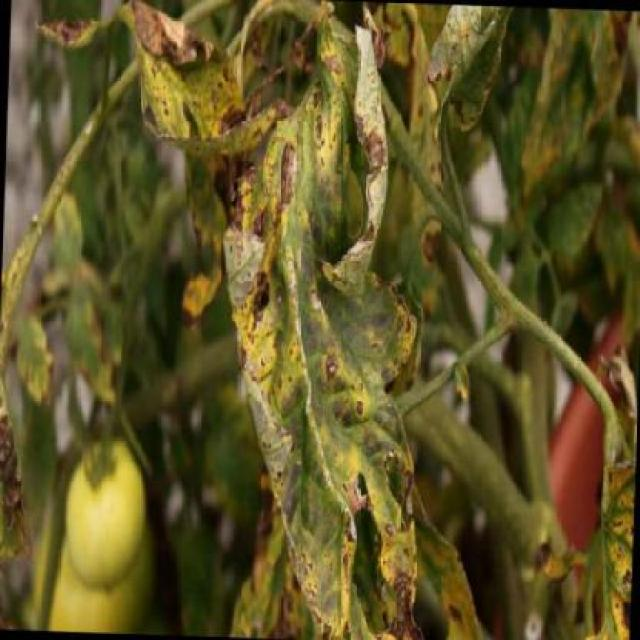Septoria leaf spot: (206, 16, 440, 639), (81, 7, 264, 158)
